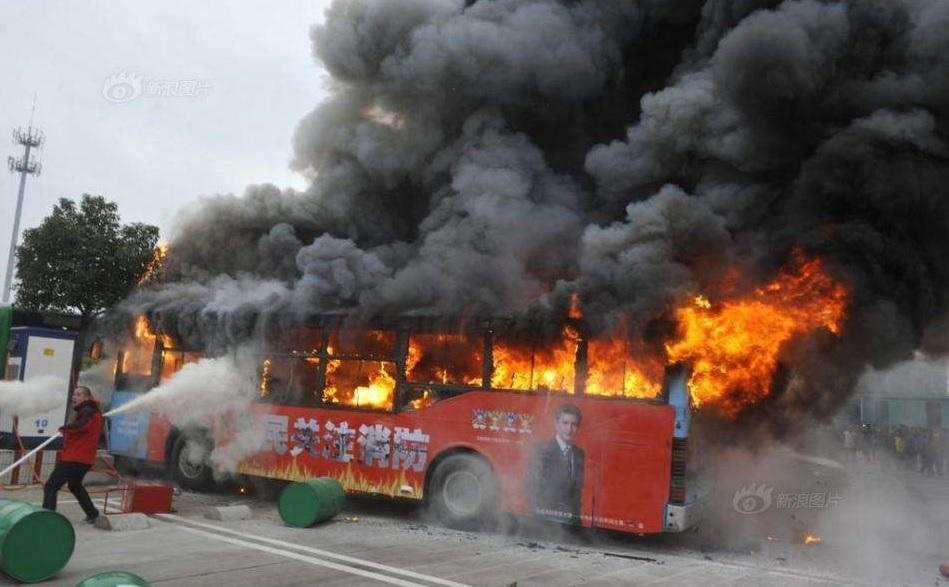fire: (234, 270, 879, 425), (272, 300, 710, 411), (128, 233, 181, 370), (123, 311, 177, 377)
